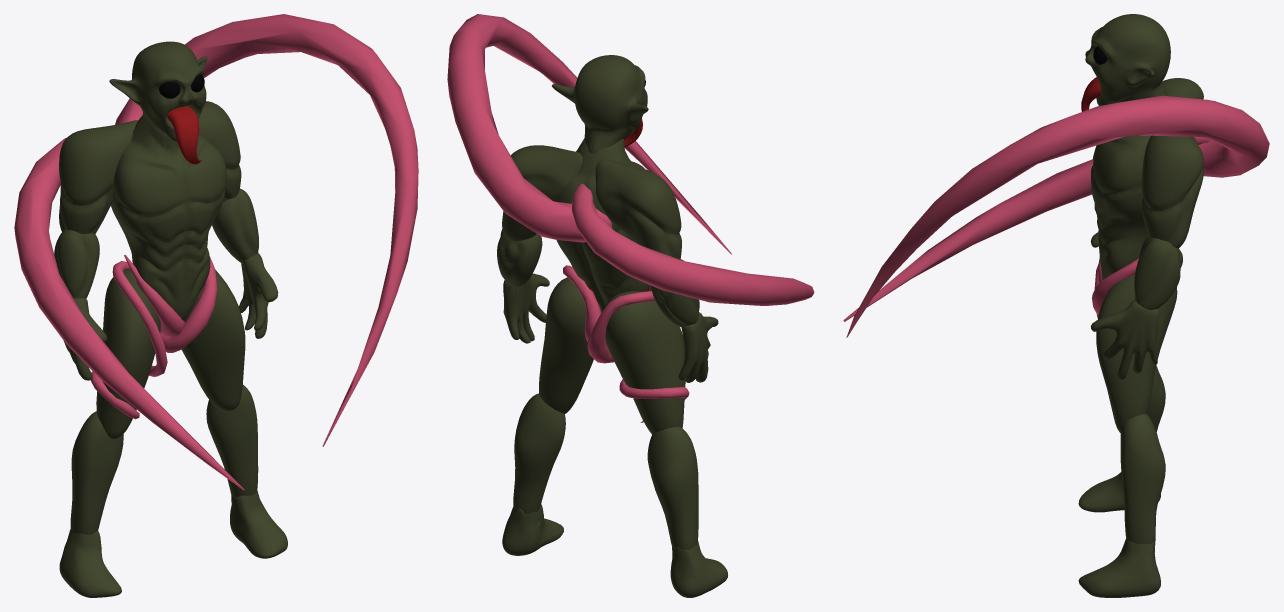
Rendered from ld jam hulking monster.fbx.
The picture shows the model from 3 angles, left to right: view 1: azimuth 30°, elevation 25°; view 2: azimuth 150°, elevation 25°; view 3: azimuth 270°, elevation 25°; orthographic projection. The views are drawn at different scales.
Parts seen in each view (by area): view 1: Cube.008, NurbsPath.005, NurbsPath.006, Cube.010, Cube.013, Cube.009, Cube.014, Cube.015, NurbsPath.004, Cube.011, Cube.012, NurbsPath.007; view 2: NurbsPath.005, Cube.010, Cube.013, Cube.009, NurbsPath.006, Cube.015, Cube.008, Cube.014, Cube.012, NurbsPath.004, Cube.011; view 3: NurbsPath.005, Cube.009, Cube.008, Cube.015, NurbsPath.006, Cube.013, Cube.010, Cube.014, Cube.012, Cube.011, NurbsPath.004.
Boxes of the visible parts, x1=… form: Cube.008: x1=111, y1=115, x2=226, y2=320; NurbsPath.005: x1=115, y1=14, x2=418, y2=446; NurbsPath.006: x1=14, y1=137, x2=244, y2=490; Cube.010: x1=96, y1=268, x2=245, y2=438; Cube.013: x1=70, y1=385, x2=258, y2=534; Cube.009: x1=59, y1=101, x2=241, y2=233; Cube.014: x1=59, y1=490, x2=287, y2=597; Cube.015: x1=109, y1=41, x2=207, y2=141; NurbsPath.004: x1=90, y1=255, x2=217, y2=419; Cube.011: x1=54, y1=188, x2=258, y2=298; Cube.012: x1=64, y1=253, x2=278, y2=380; NurbsPath.007: x1=167, y1=106, x2=201, y2=164; NurbsPath.005: x1=447, y1=14, x2=731, y2=254; Cube.010: x1=539, y1=277, x2=685, y2=434; Cube.013: x1=513, y1=393, x2=698, y2=549; Cube.009: x1=502, y1=145, x2=681, y2=259; NurbsPath.006: x1=571, y1=183, x2=814, y2=305; Cube.015: x1=552, y1=55, x2=648, y2=153; Cube.008: x1=556, y1=138, x2=652, y2=311; Cube.014: x1=502, y1=504, x2=727, y2=597; Cube.012: x1=503, y1=273, x2=718, y2=382; NurbsPath.004: x1=563, y1=265, x2=689, y2=422; Cube.011: x1=497, y1=229, x2=699, y2=327; NurbsPath.005: x1=846, y1=95, x2=1269, y2=337; Cube.009: x1=1142, y1=78, x2=1203, y2=248; Cube.008: x1=1091, y1=135, x2=1196, y2=280; Cube.015: x1=1085, y1=14, x2=1170, y2=105; NurbsPath.006: x1=843, y1=137, x2=1210, y2=321; Cube.013: x1=1120, y1=365, x2=1165, y2=544; Cube.010: x1=1096, y1=274, x2=1177, y2=432; Cube.014: x1=1078, y1=472, x2=1160, y2=597; Cube.012: x1=1090, y1=232, x2=1158, y2=380; Cube.011: x1=1134, y1=236, x2=1182, y2=309; NurbsPath.004: x1=1092, y1=258, x2=1138, y2=318.
Bounding box in the file's own units: 188 × 288 × 210.
